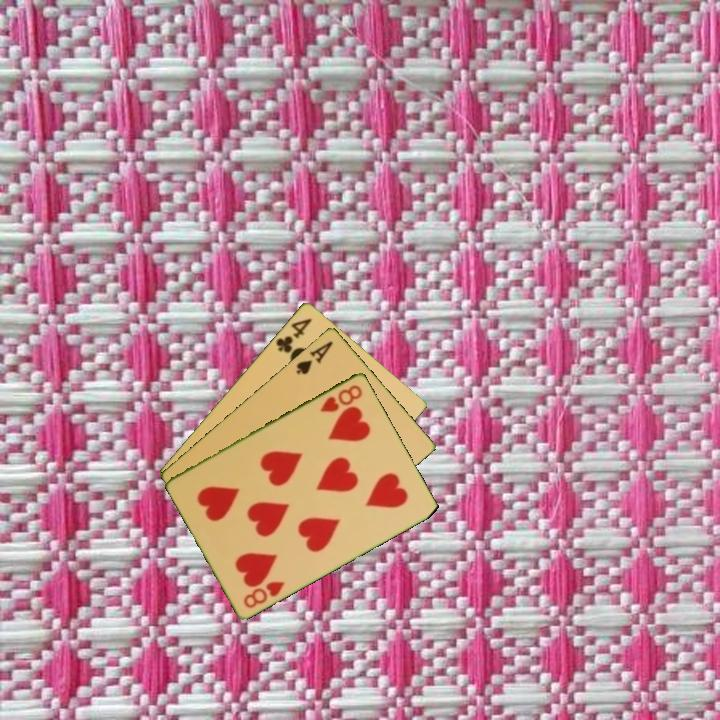4c: (272, 314, 315, 356)
8h: (316, 381, 365, 415), (240, 577, 288, 611)
As: (292, 337, 336, 377)
